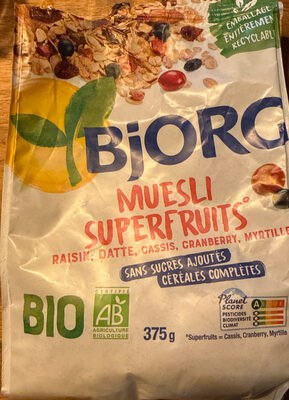Muesli Superfruits Raisins, cassis, cranberry, myrtille: (14, 20, 275, 380)
